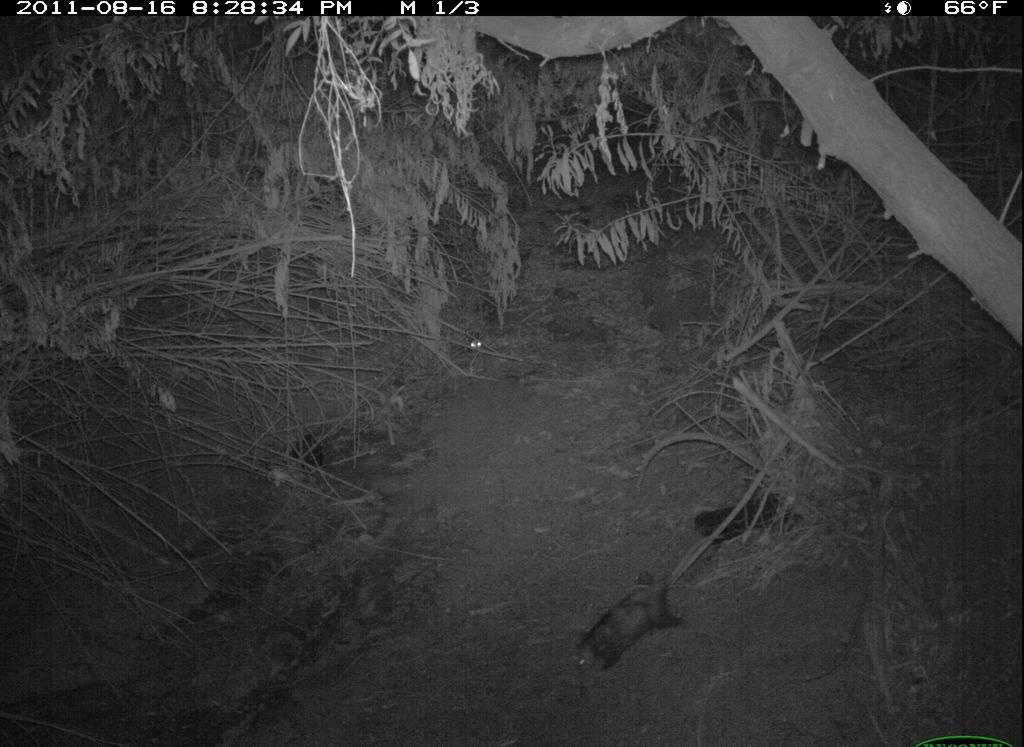opossum: (564, 553, 708, 687)
